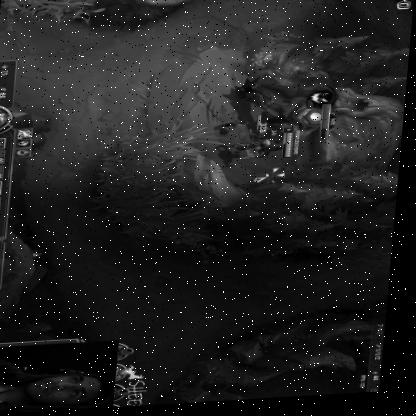streamer: (0, 350, 122, 416)
